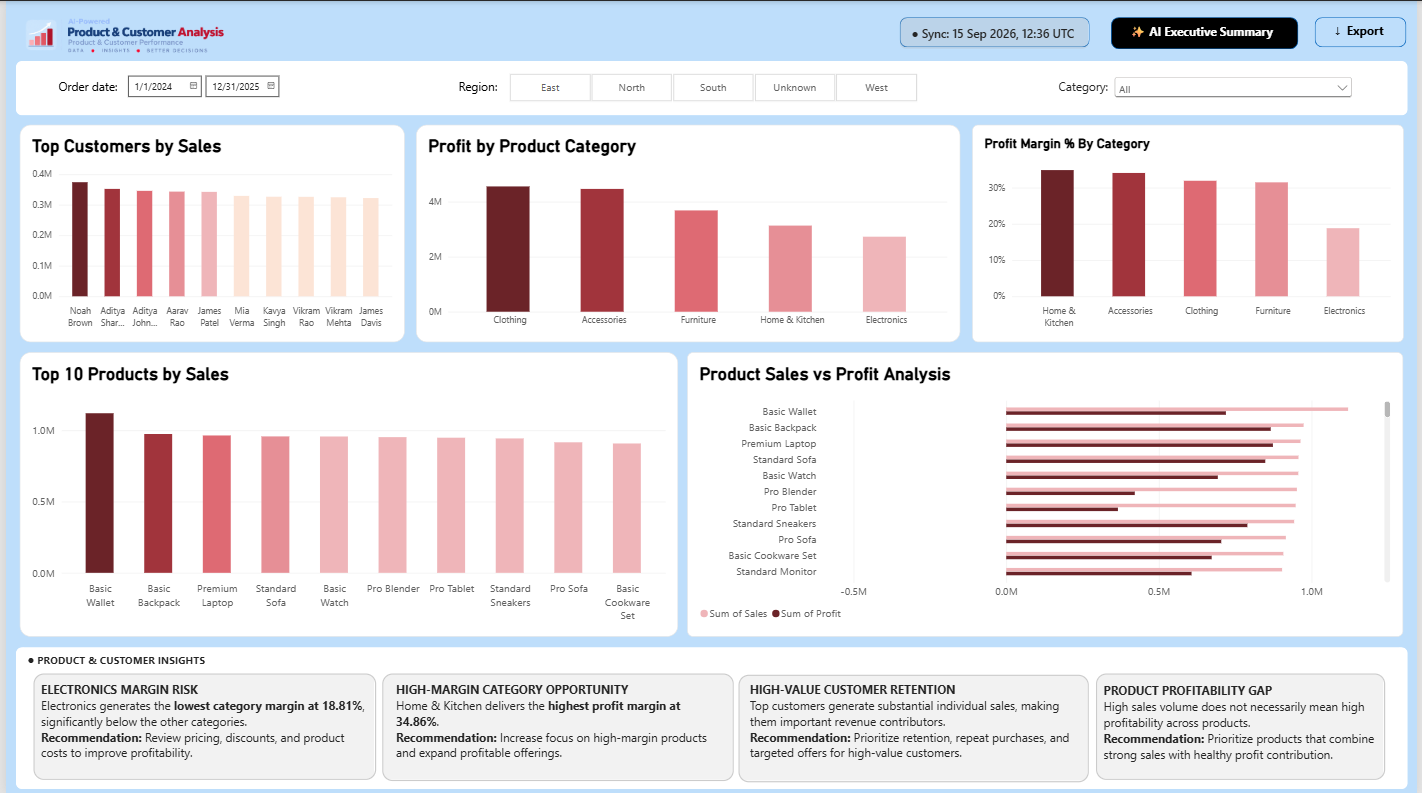

The page's visual inventory and layout, read from the dashboard file:
{"tool":"powerbi","page":{"name":"Product & Customer Analysis","canvas":[1920,1080],"ordinal":1},"visuals":[{"type":"cardVisual","fields":{"Data":["Sum(SalesData.Unit_Price)"]},"box":[13.8,81,1894.8,74.1],"z":0},{"type":"clusteredColumnChart","title":"Top 10 Products by Sales","fields":{"Category":["SalesData.Product_Name"],"Y":["Sum(SalesData.Sales)"]},"box":[18.5,477.8,896.3,387],"z":1000},{"type":"clusteredColumnChart","title":"Top Customers by Sales","fields":{"Category":["SalesData.Customer_Name"],"Y":["Sum(SalesData.Sales)"]},"box":[18.5,168.5,524.1,296.3],"z":2000},{"type":"clusteredColumnChart","title":"Profit by Product Category","fields":{"Category":["SalesData.Category"],"Y":["Sum(SalesData.Profit)"]},"box":[557.4,168.5,740.7,296.3],"z":3000},{"type":"clusteredColumnChart","title":"Profit Margin % By Category","fields":{"Category":["SalesData.Category"],"Y":["SalesData.Profit Margin %"]},"box":[1314.8,168.5,587,296.3],"z":4000},{"type":"slicer","fields":{"Values":["SalesData.Category"]},"box":[1503.5,99.4,333.1,55.8],"z":5000},{"type":"slicer","fields":{"Values":["SalesData.Region"]},"box":[664.5,97.7,593,41],"z":6000},{"type":"clusteredBarChart","title":"Product Sales vs Profit Analysis","fields":{"Y":["Sum(SalesData.Sales)","Sum(SalesData.Profit)"],"Category":["SalesData.Product_Name"]},"box":[927.8,477.8,974.1,387],"z":7000},{"type":"cardVisual","fields":{"Data":["Sum(SalesData.Unit_Price)"]},"box":[13.8,879.3,1894.8,193.1],"z":8000},{"type":"shape","box":[1216.9,21.7,258.4,41],"z":9000},{"type":"cardVisual","fields":{"Data":["SalesData.Sync Status"]},"box":[1216.4,21.7,257.9,43.4],"z":10000},{"type":"shape","box":[1503.5,21.5,254.8,43.4],"z":11000},{"type":"textbox","box":[1528.8,30.3,209.8,23.5],"z":12000},{"type":"shape","box":[1782,21.5,124.6,40.8],"z":13000},{"type":"textbox","box":[1807.9,28.9,89,23.2],"z":14000},{"type":"image","box":[0,0,323,97],"z":15000},{"type":"textbox","box":[616.7,105.6,300,37],"z":16000},{"type":"textbox","box":[1432,104.7,300,38.4],"z":17000},{"type":"textbox","box":[71.5,104.7,300,38.4],"z":18000},{"type":"slicer","fields":{"Values":["SalesData.Order_Date"]},"box":[158.7,97.7,345.3,40.1],"z":19000},{"type":"textbox","box":[29.3,884.5,403.4,63.8],"z":20000},{"type":"shape","box":[37.1,916.1,466.1,145.2],"z":21000},{"type":"shape","box":[511.6,915.9,478.3,146.4],"z":22000},{"type":"shape","box":[997.8,916.3,477.2,146.7],"z":23000},{"type":"shape","box":[1483.9,916.1,393.5,145.2],"z":24000},{"type":"textbox","box":[47,926,445,116],"z":25000},{"type":"textbox","box":[530,926,445,116],"z":26000},{"type":"textbox","box":[1012,926,444,116],"z":27000},{"type":"textbox","box":[1494,927,376,116],"z":28000}]}

Visuals, with their boxes in screenshot pixels (x1, y1, x2, y2), scaled from the page's 1920x1080 canvas onto the 1422x793 screenshot:
cardVisual - Sum(SalesData.Unit_Price): crop(10, 59, 1414, 114)
"Top 10 Products by Sales" clusteredColumnChart: crop(14, 351, 678, 635)
"Top Customers by Sales" clusteredColumnChart: crop(14, 124, 402, 341)
"Profit by Product Category" clusteredColumnChart: crop(413, 124, 961, 341)
"Profit Margin % By Category" clusteredColumnChart: crop(974, 124, 1409, 341)
slicer - SalesData.Category: crop(1114, 73, 1360, 114)
slicer - SalesData.Region: crop(492, 72, 931, 102)
"Product Sales vs Profit Analysis" clusteredBarChart: crop(687, 351, 1409, 635)
cardVisual - Sum(SalesData.Unit_Price): crop(10, 646, 1414, 787)
shape: crop(901, 16, 1093, 46)
cardVisual - SalesData.Sync Status: crop(901, 16, 1092, 48)
shape: crop(1114, 16, 1302, 48)
textbox: crop(1132, 22, 1288, 40)
shape: crop(1320, 16, 1412, 46)
textbox: crop(1339, 21, 1405, 38)
image: crop(0, 0, 239, 71)
textbox: crop(457, 78, 679, 105)
textbox: crop(1061, 77, 1283, 105)
textbox: crop(53, 77, 275, 105)
slicer - SalesData.Order_Date: crop(118, 72, 373, 101)
textbox: crop(22, 649, 320, 696)
shape: crop(27, 673, 373, 779)
shape: crop(379, 673, 733, 780)
shape: crop(739, 673, 1092, 781)
shape: crop(1099, 673, 1390, 779)
textbox: crop(35, 680, 364, 765)
textbox: crop(393, 680, 722, 765)
textbox: crop(750, 680, 1078, 765)
textbox: crop(1106, 681, 1385, 766)
